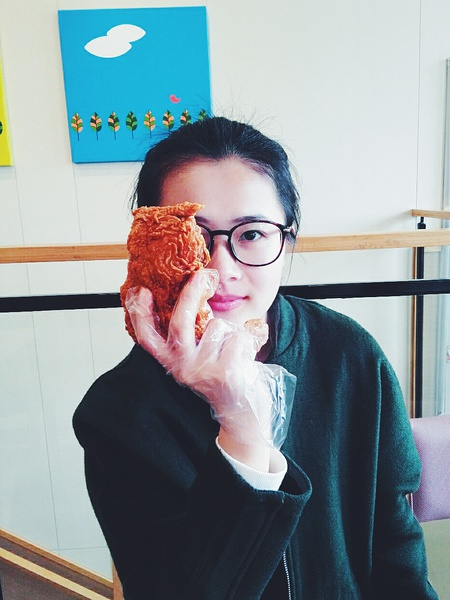face: (168, 162, 285, 335)
